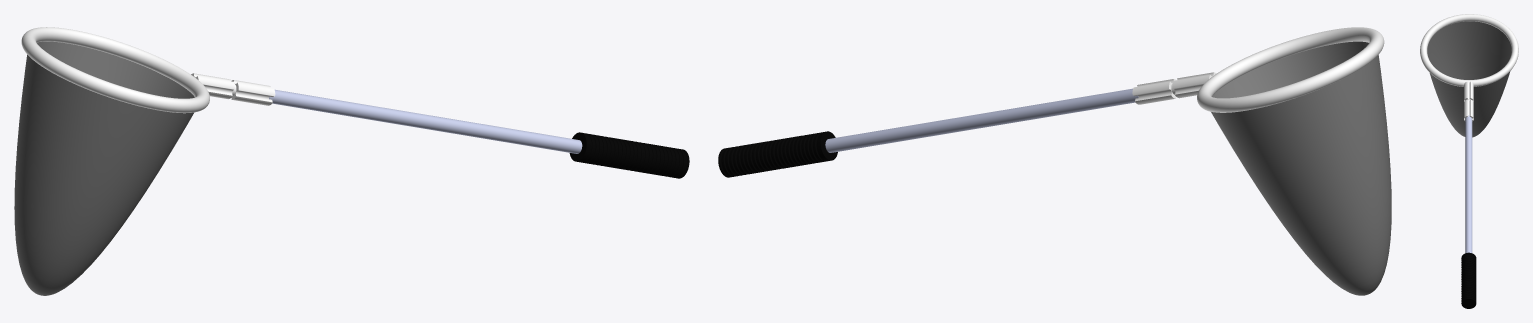
File: chae.fbx
3 renders of one model, left to right at view 1: azimuth 30°, elevation 25°; view 2: azimuth 150°, elevation 25°; view 3: azimuth 270°, elevation 25°, orthographic. The views are drawn at different scales.
Parts seen in each view (by area): view 1: 천, 레이어 02 (×3), 기본값, 레이어 03; view 2: 천, 레이어 02 (×3), 기본값, 레이어 03; view 3: 천, 레이어 02 (×3), 기본값, 레이어 03.
Part boxes in pixels (left/top/right/bottom): 천: left=14, top=41, right=194, bottom=295; 레이어 02 (×3): left=21, top=27, right=275, bottom=113; 기본값: left=269, top=89, right=582, bottom=153; 레이어 03: left=569, top=132, right=689, bottom=178; 천: left=1211, top=41, right=1391, bottom=295; 레이어 02 (×3): left=1132, top=27, right=1384, bottom=112; 기본값: left=825, top=88, right=1138, bottom=152; 레이어 03: left=718, top=131, right=837, bottom=177; 천: left=1427, top=21, right=1511, bottom=137; 레이어 02 (×3): left=1420, top=14, right=1518, bottom=121; 기본값: left=1465, top=115, right=1472, bottom=253; 레이어 03: left=1461, top=252, right=1476, bottom=308.
Bounding box in the file's own units: 1298 × 524 × 335.
